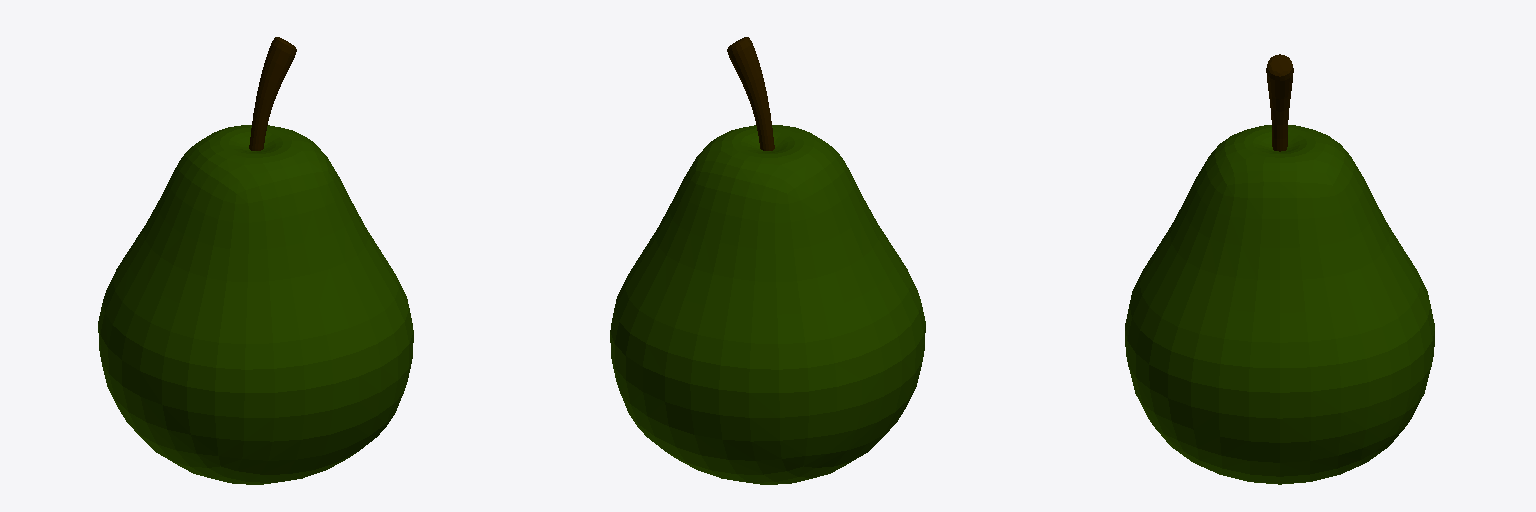
The model's file is Pear.obj.
3 renders of one model, left to right at view 1: azimuth 30°, elevation 25°; view 2: azimuth 150°, elevation 25°; view 3: azimuth 270°, elevation 25°, orthographic.
Parts seen in each view (by area): view 1: Pear_Cube.001; view 2: Pear_Cube.001; view 3: Pear_Cube.001.
Part boxes in pixels (left/top/right/bottom): Pear_Cube.001: left=98, top=37, right=413, bottom=484; Pear_Cube.001: left=610, top=37, right=925, bottom=484; Pear_Cube.001: left=1125, top=54, right=1434, bottom=484.
Bounding box in the file's own units: 1.94 × 2.93 × 1.94.